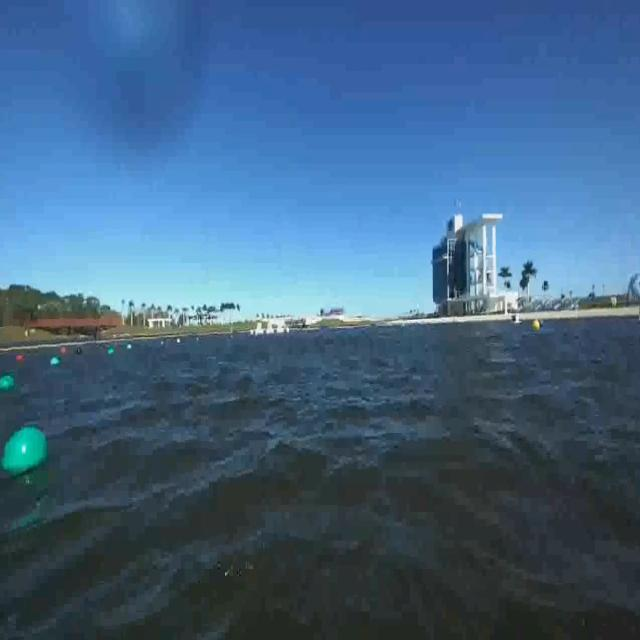green-buoy: (3, 428, 53, 482), (0, 377, 17, 393), (52, 357, 63, 367)
red-buoy: (14, 355, 25, 362)
yellow-buoy: (536, 321, 544, 334)
